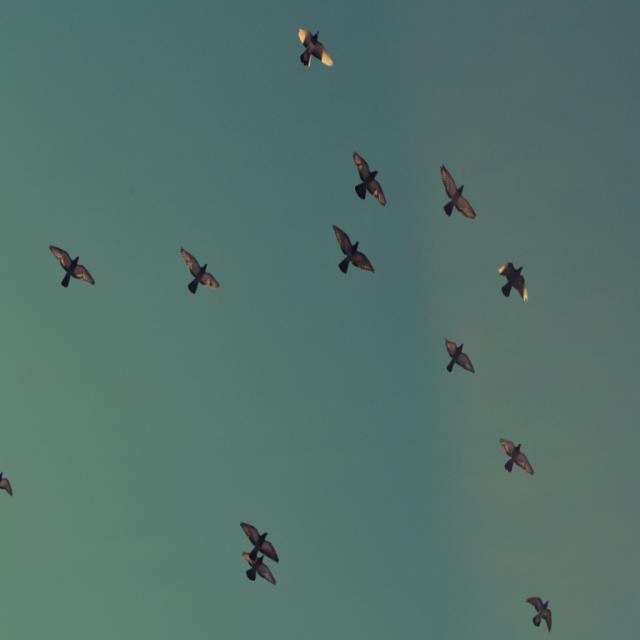bird: (238, 520, 282, 571), (333, 225, 374, 275), (353, 151, 388, 208), (442, 166, 477, 222), (49, 246, 96, 287), (181, 250, 219, 293), (298, 30, 336, 71), (239, 550, 275, 590), (500, 438, 535, 477), (498, 263, 530, 302), (525, 595, 557, 632), (443, 339, 475, 373), (0, 467, 14, 499)
